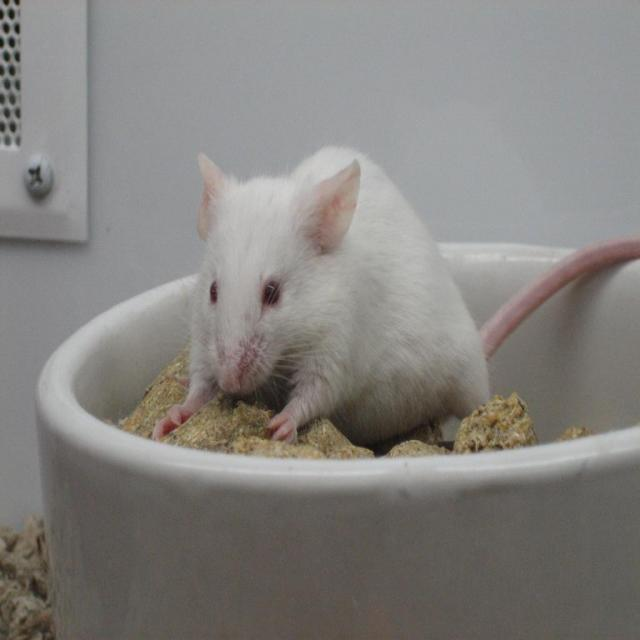rat: (152, 145, 640, 443)
